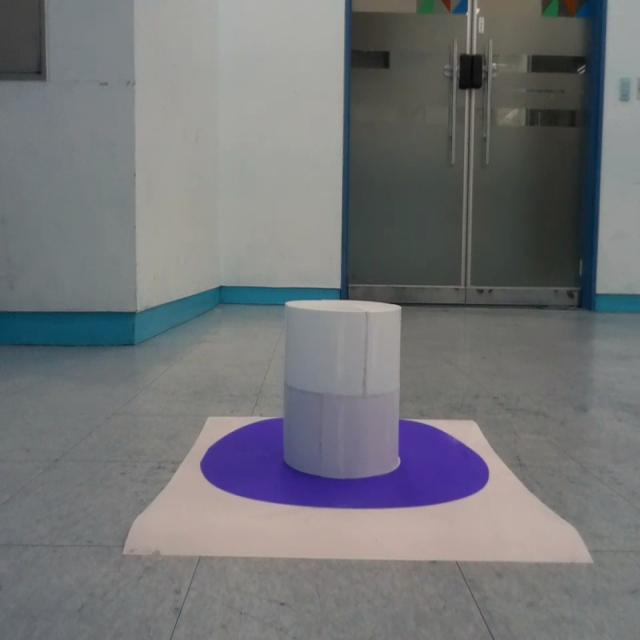cylinder: (282, 298, 402, 479)
